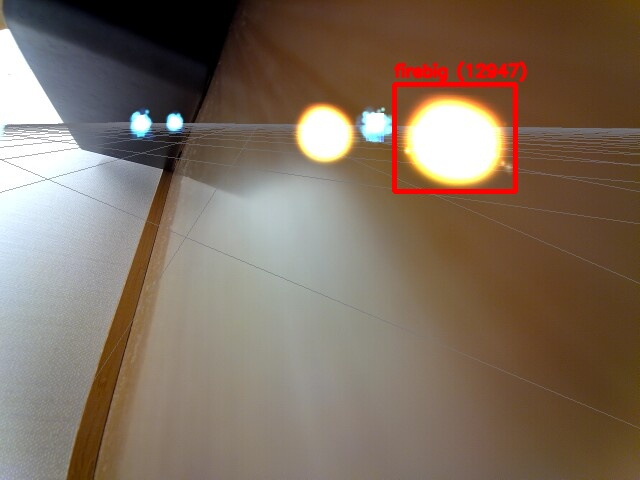firebig: (394, 84, 515, 191)
